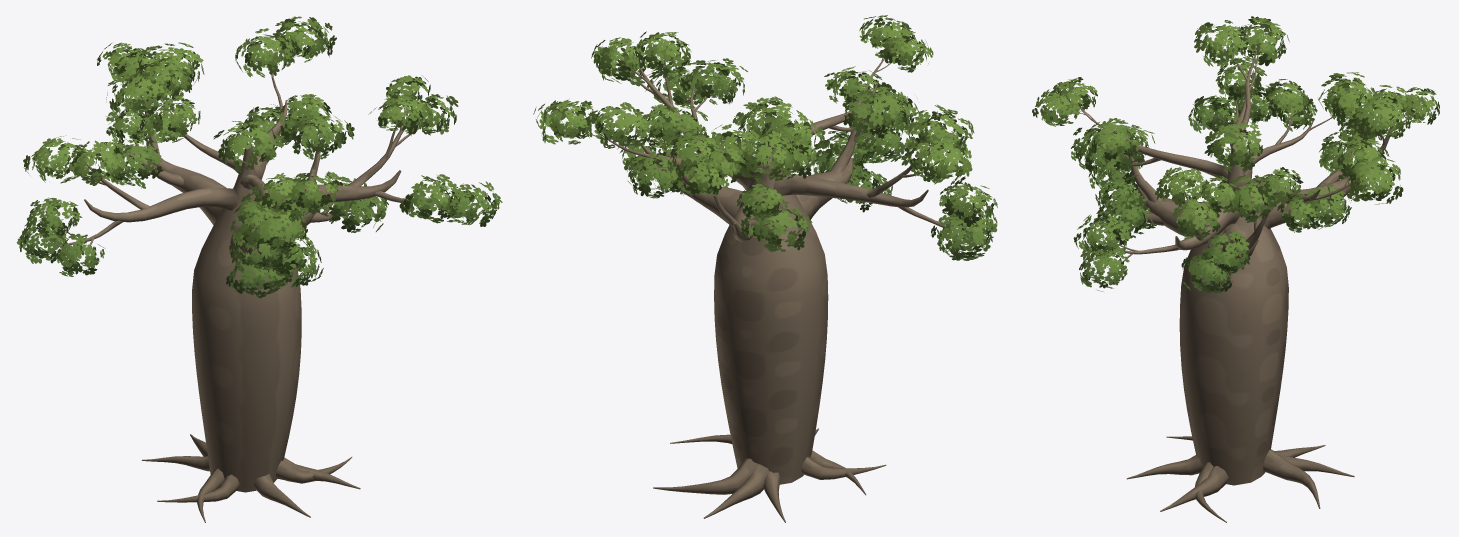
File: tree.gltf
3 views of the same model, side by side, from view 1: azimuth 30°, elevation 25°; view 2: azimuth 150°, elevation 25°; view 3: azimuth 270°, elevation 25° (orthographic). The views are drawn at different scales.
Parts seen in each view (by area): view 1: Tree_LOD0; view 2: Tree_LOD0; view 3: Tree_LOD0.
Part boxes in pixels (left/top/right/bottom): Tree_LOD0: left=16, top=16, right=502, bottom=522; Tree_LOD0: left=533, top=15, right=997, bottom=522; Tree_LOD0: left=1032, top=16, right=1439, bottom=522.
Size of the model in its own units: 26.12 by 23.2 by 22.97.
Materials: 2 (2 with a texture image).
